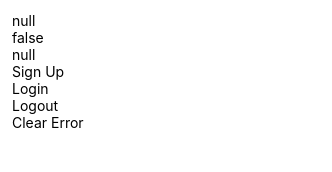
Test: AuthContext › surfaces the server's friendly message on invalid login
The width and height of the screenshot is (332, 172).
Click the button "Login" at point(48, 88), box [12,80,84,97]
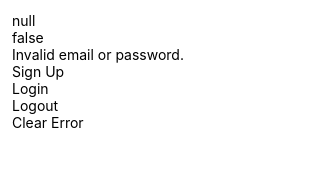
expect the text with test id "user-id" reads "null": met, box [12,12,35,29]
expect the text with test id "error" reads "Invalid email or password.": met, box [12,46,184,63]
